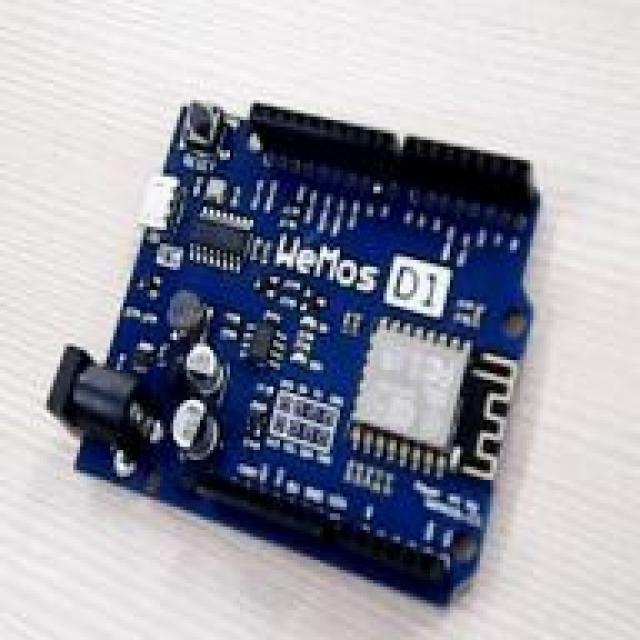Wemos: (48, 104, 538, 601)
